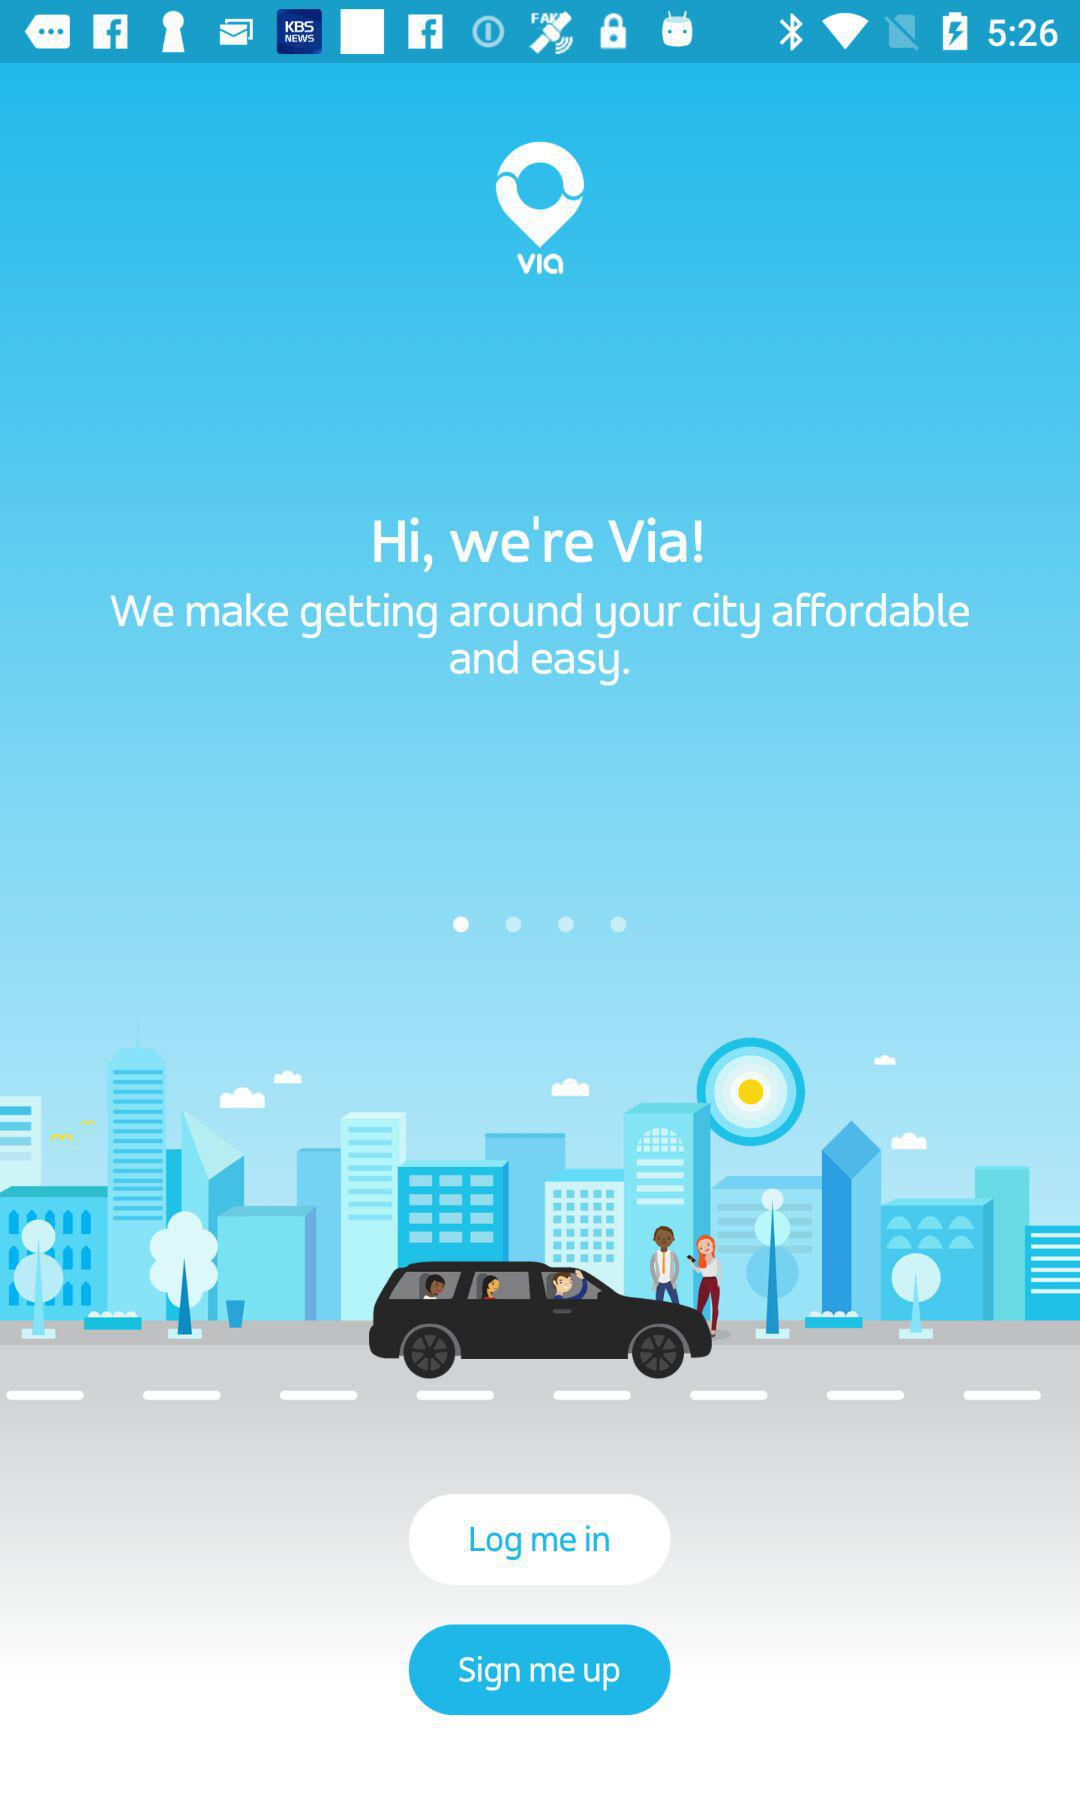Image: (1, 1032, 1080, 1407), (497, 141, 585, 277)
PageIndicator: (451, 914, 629, 935)
Text: (110, 589, 971, 688), (373, 516, 705, 573)
TextButton: (409, 1493, 673, 1586), (409, 1624, 673, 1716)
UpperTaskBar: (1, 1, 1080, 64)
